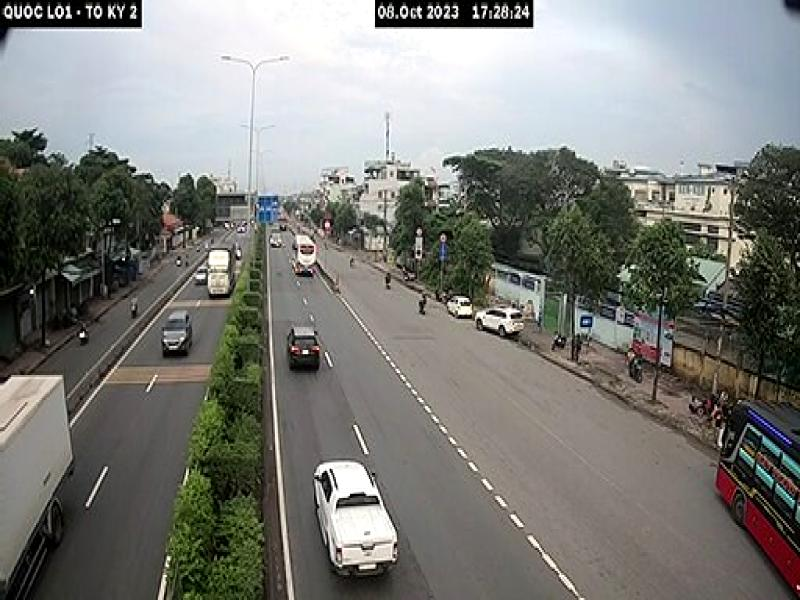bus: (711, 396, 800, 600), (290, 232, 318, 280)
car: (309, 459, 403, 586), (281, 324, 328, 375), (476, 306, 526, 340), (161, 310, 191, 358), (446, 295, 472, 319)
truck: (0, 370, 75, 600), (208, 236, 234, 300)
